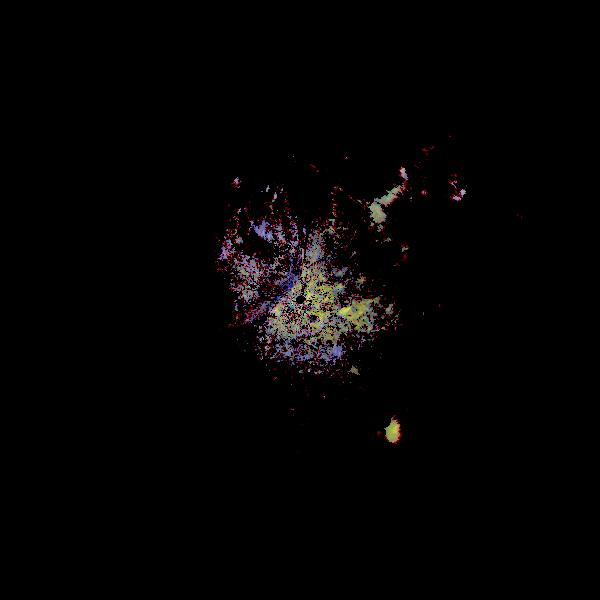roost: (373, 378, 493, 498)
